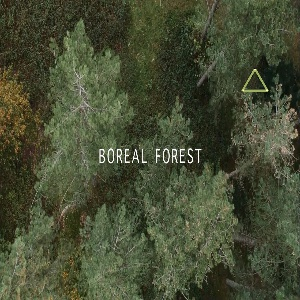triangle: (239, 66, 271, 95)
